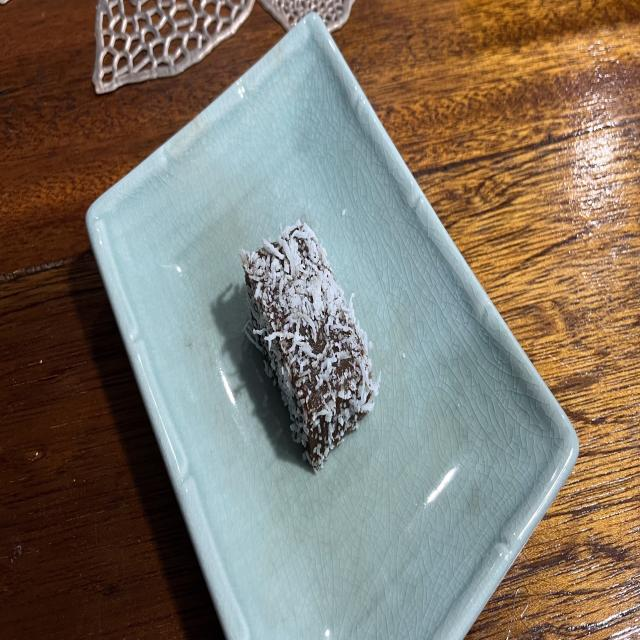kaswi: (241, 220, 379, 469)
